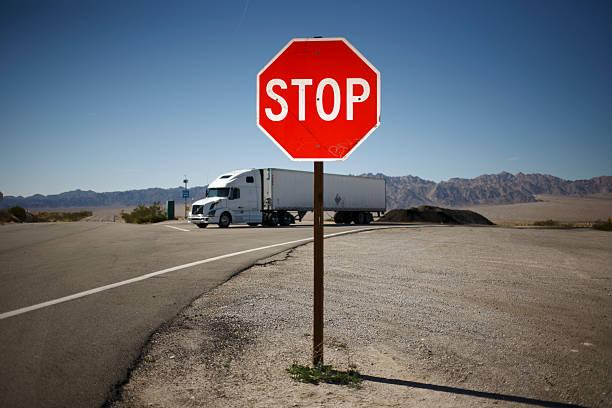Pole: (313, 160, 324, 368)
Sign: (258, 39, 382, 162)
